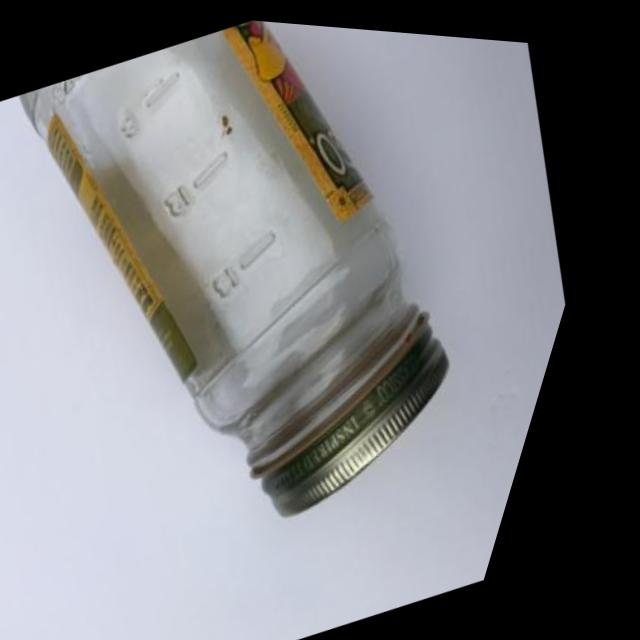glass: (0, 2, 636, 634)
